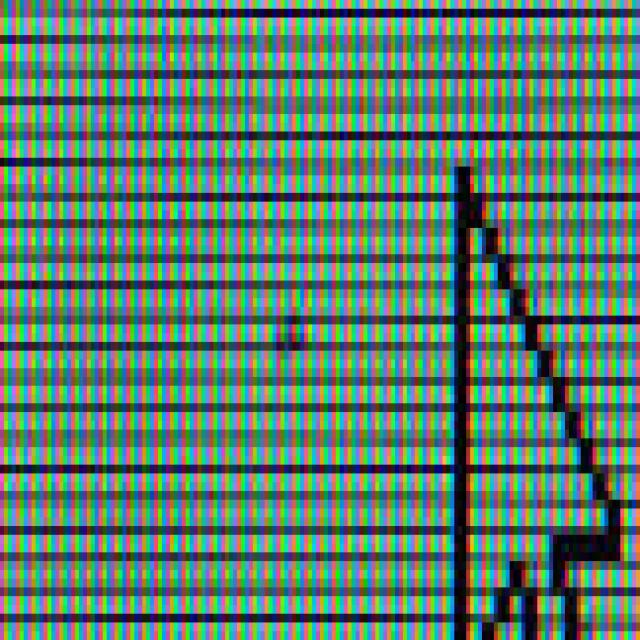dead_pixel: (275, 304, 306, 356)
